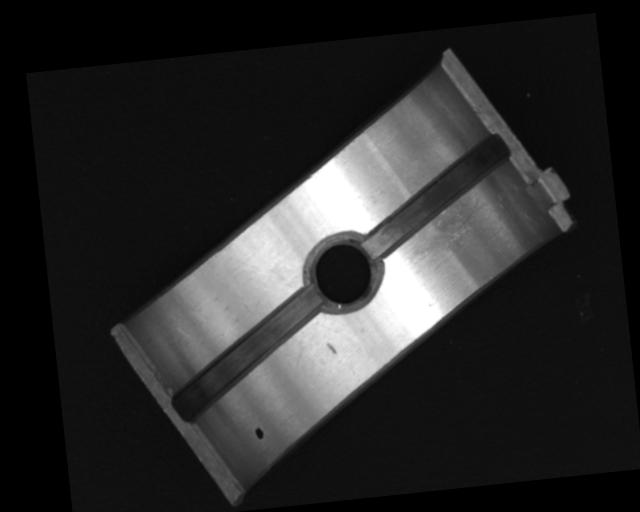blot: (254, 425, 264, 440)
bruise: (326, 340, 338, 355)
gap: (168, 286, 327, 420), (355, 130, 515, 258)
hole: (301, 229, 383, 315)
scratch: (399, 192, 492, 264)
